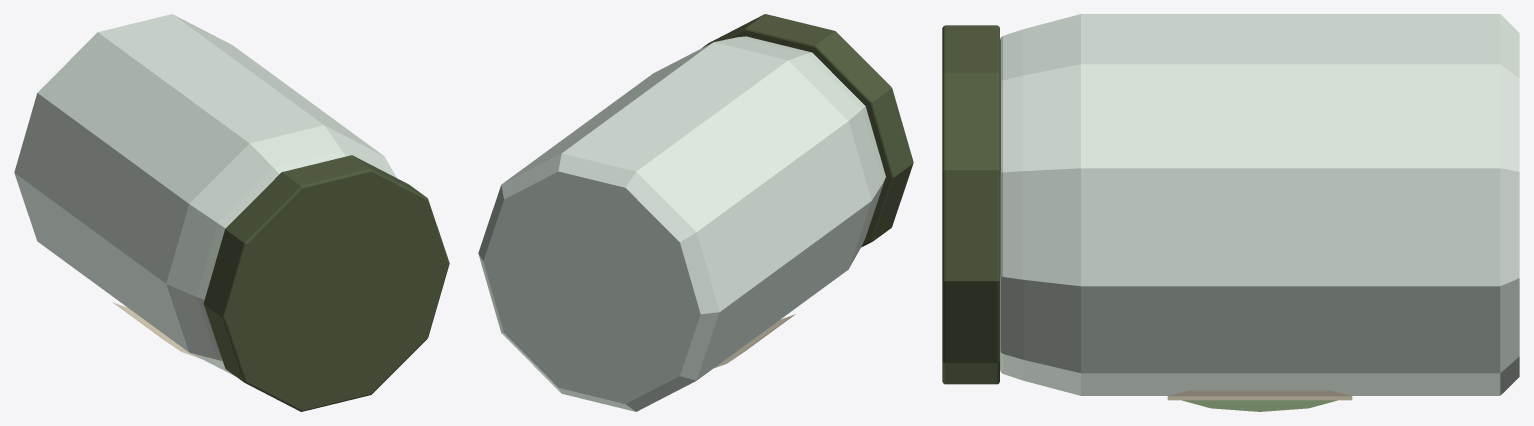
File: pesto.glb
3 renders of one model, left to right at view 1: azimuth 30°, elevation 25°; view 2: azimuth 150°, elevation 25°; view 3: azimuth 270°, elevation 25°, orthographic. The views are drawn at different scales.
Parts seen in each view (by area): view 1: pesto; view 2: pesto; view 3: pesto.
Boxes of the visible parts, bbox=[...] form: pesto: bbox=[14, 14, 449, 411]; pesto: bbox=[478, 14, 913, 411]; pesto: bbox=[942, 14, 1519, 411].
Bounding box in the file's own units: 0.06 × 0.0605 × 0.09.
